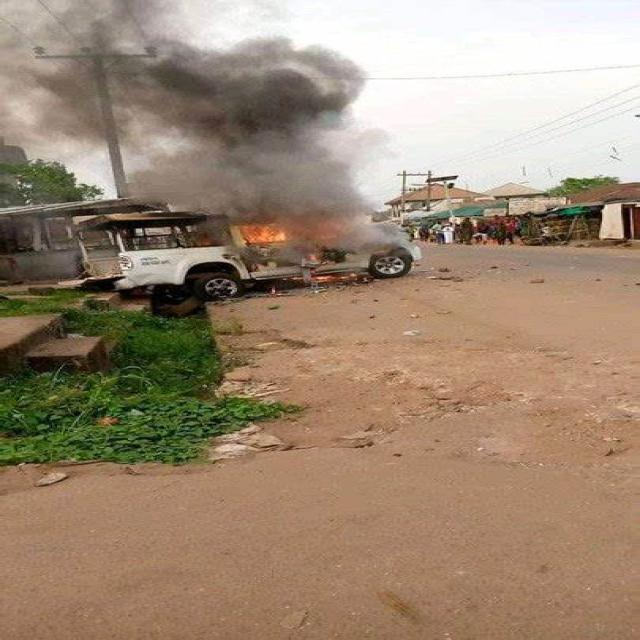Smoke: (30, 3, 348, 135), (138, 147, 348, 204)
